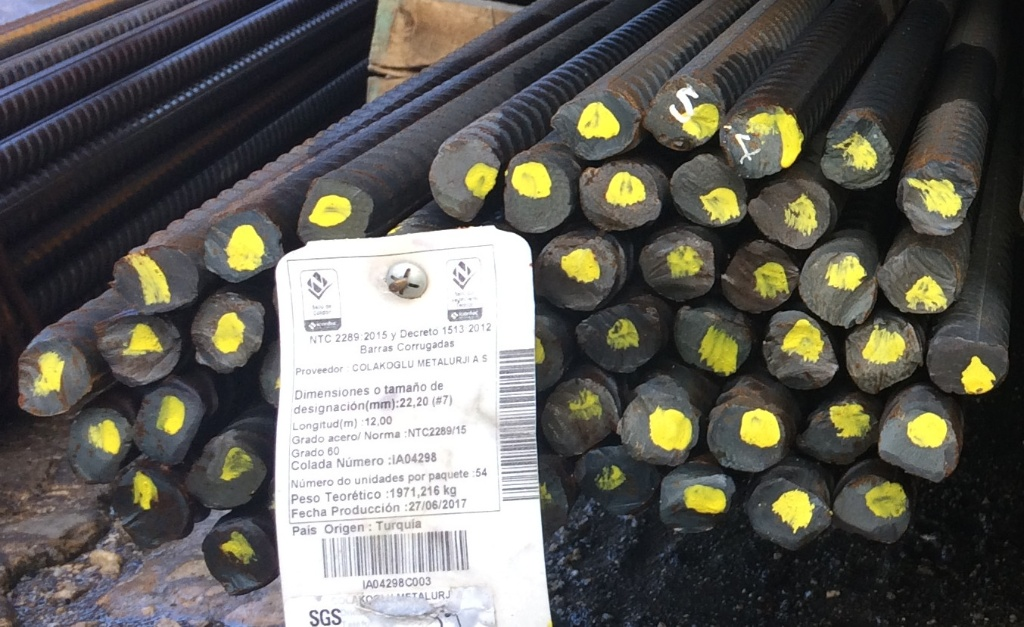dipstick: (878, 393, 966, 481), (745, 474, 835, 556), (5, 337, 96, 414), (107, 472, 195, 550), (900, 159, 987, 237), (741, 180, 836, 251), (834, 469, 923, 544), (813, 110, 896, 190), (502, 147, 575, 237), (652, 465, 738, 541), (131, 383, 204, 472), (189, 292, 268, 374), (616, 389, 702, 464), (107, 243, 200, 312), (761, 311, 841, 391), (536, 235, 619, 311), (574, 164, 666, 232), (704, 399, 788, 472), (637, 229, 719, 303), (430, 138, 503, 221), (543, 379, 626, 452), (578, 308, 672, 372), (800, 247, 878, 324), (877, 245, 961, 316), (930, 324, 1009, 399), (95, 315, 183, 382), (844, 318, 924, 391), (195, 432, 268, 510), (722, 238, 797, 313), (557, 89, 635, 161), (671, 158, 751, 227), (805, 394, 876, 470), (726, 102, 803, 172), (210, 211, 284, 282), (199, 524, 276, 592), (648, 80, 720, 151), (300, 181, 374, 243), (69, 410, 130, 484)
